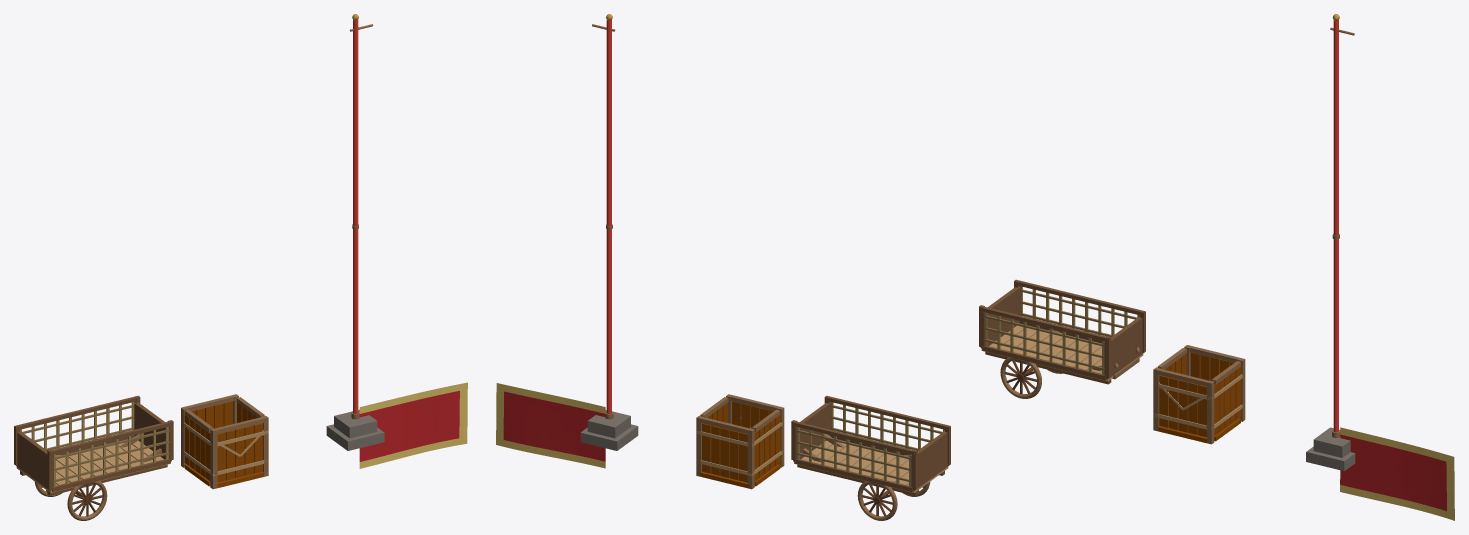
The model's file is lib_lib_prop_street.hd.glb.
3 renders of one model, left to right at view 1: azimuth 30°, elevation 25°; view 2: azimuth 150°, elevation 25°; view 3: azimuth 330°, elevation 25°, orthographic. The views are drawn at different scales.
Parts seen in each view (by area): view 1: cart_body, crate_body, pole_flag, pole_mast; view 2: cart_body, crate_body, pole_flag, pole_mast; view 3: cart_body, crate_body, pole_flag, pole_mast.
Part boxes in pixels (<box>): cart_body: <box>14,395,173,520</box>; crate_body: <box>181,394,268,489</box>; pole_flag: <box>359,382,467,468</box>; pole_mast: <box>326,14,384,450</box>; cart_body: <box>791,395,950,520</box>; crate_body: <box>696,394,784,489</box>; pole_flag: <box>496,383,605,468</box>; pole_mast: <box>580,14,638,450</box>; cart_body: <box>979,279,1145,398</box>; crate_body: <box>1153,345,1245,444</box>; pole_flag: <box>1340,427,1454,520</box>; pole_mast: <box>1306,14,1355,471</box>.
Size of the model in its own units: 6.67 by 6.68 by 0.95.
2 materials, 2 textured.
